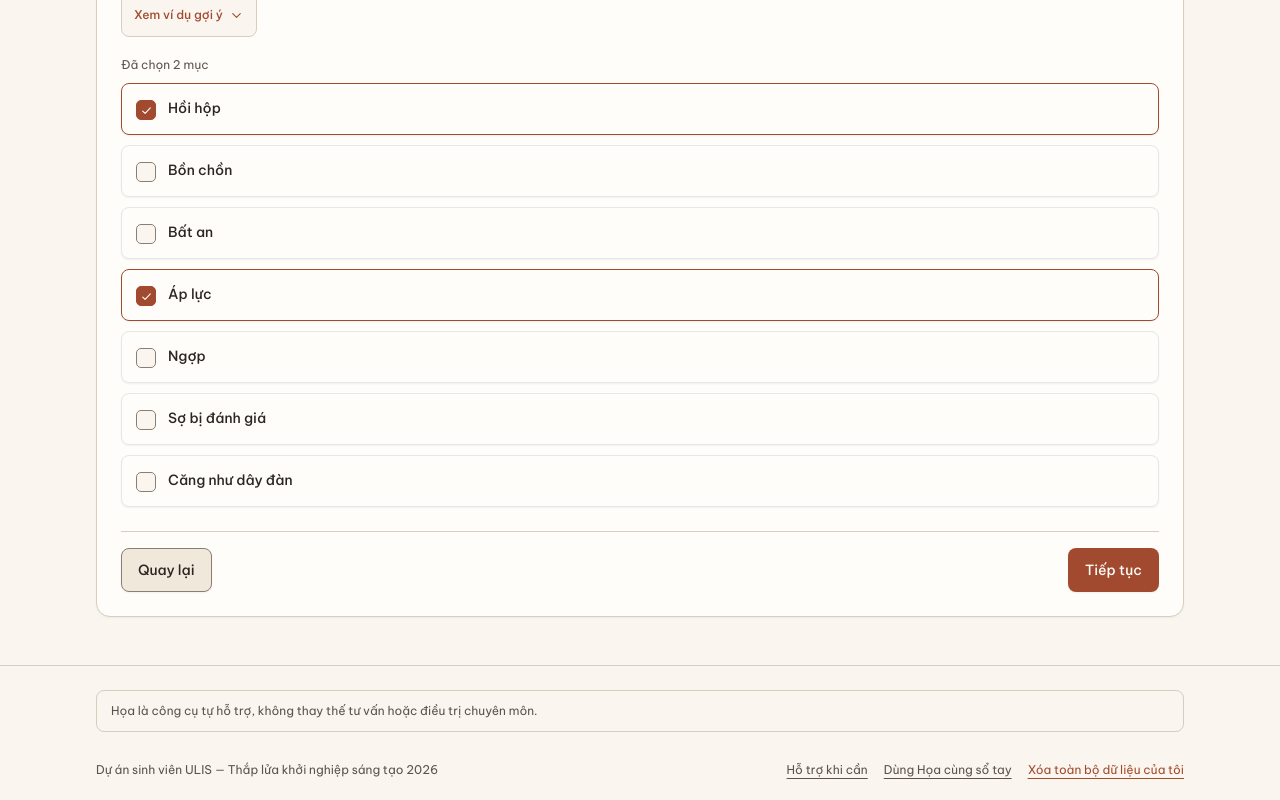
Test case: end-to-end UI flows across P0 and P1 pages › allows selecting an emotion group in step 1 of emotion-awareness and completing the flow
The width and height of the screenshot is (1280, 800).
Earlier steps of the test are not shown.
(page scrolled)
Step 1. Click the button "Tiếp tục" → coordinates (1113, 570), box 1068,548 -> 1159,592
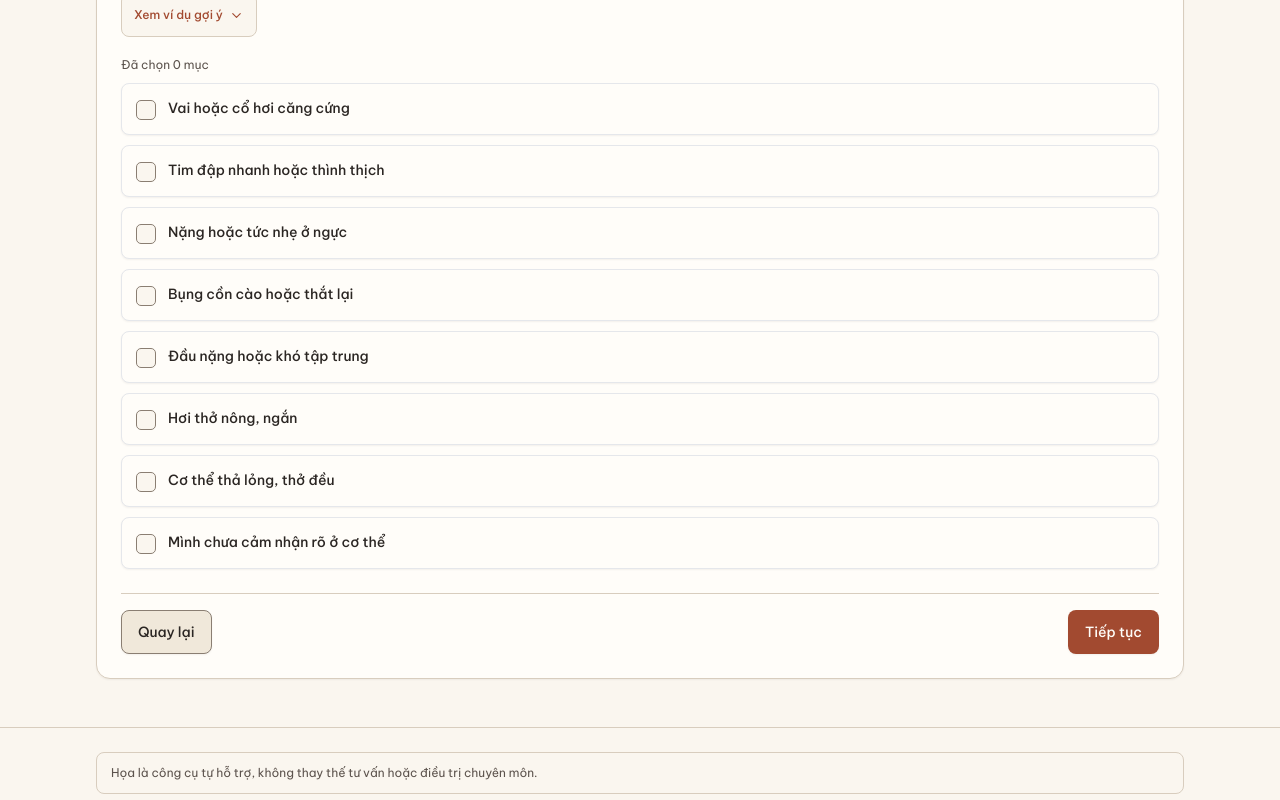
Step 2. Click the checkbox labelled "Vai hoặc cổ hơi căng cứng" → coordinates (259, 108), box 121,83 -> 1159,135
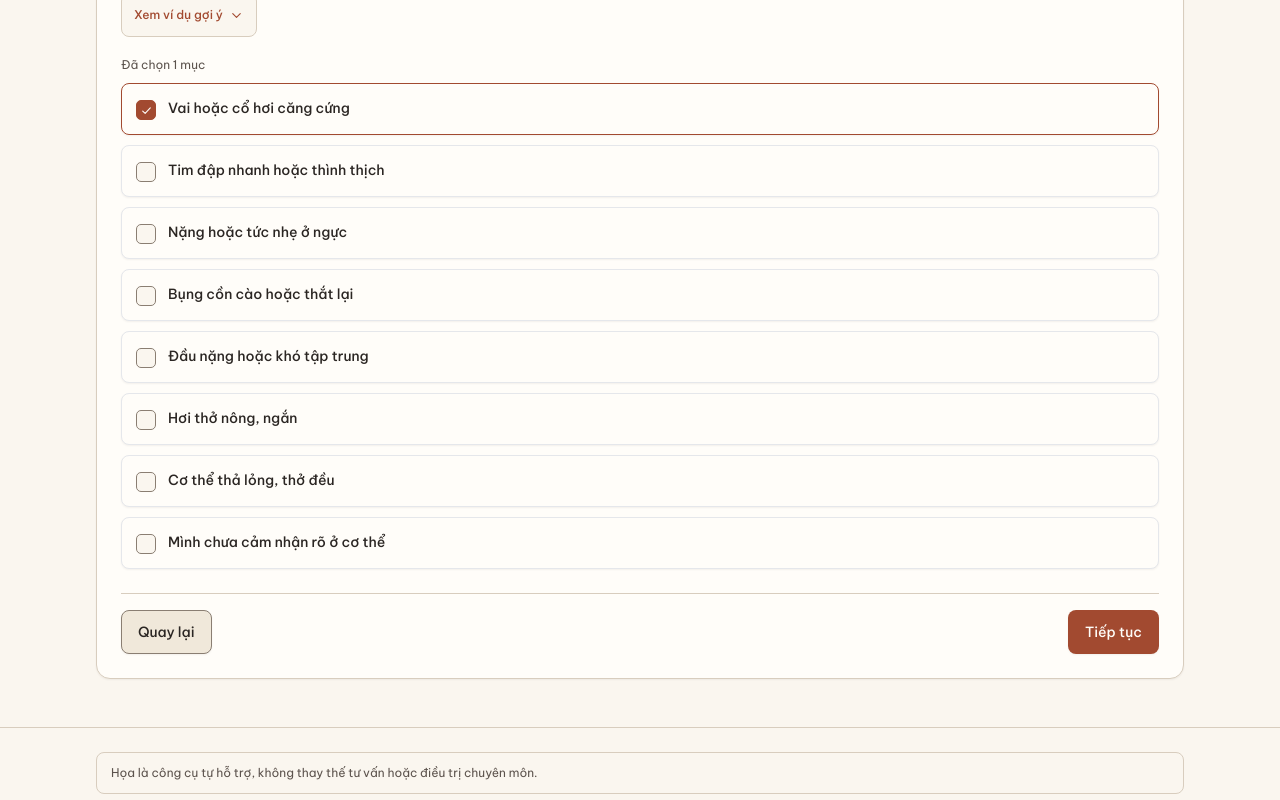
Step 3. Click the button "Tiếp tục" → coordinates (1113, 632), box 1068,610 -> 1159,654
(page scrolled)
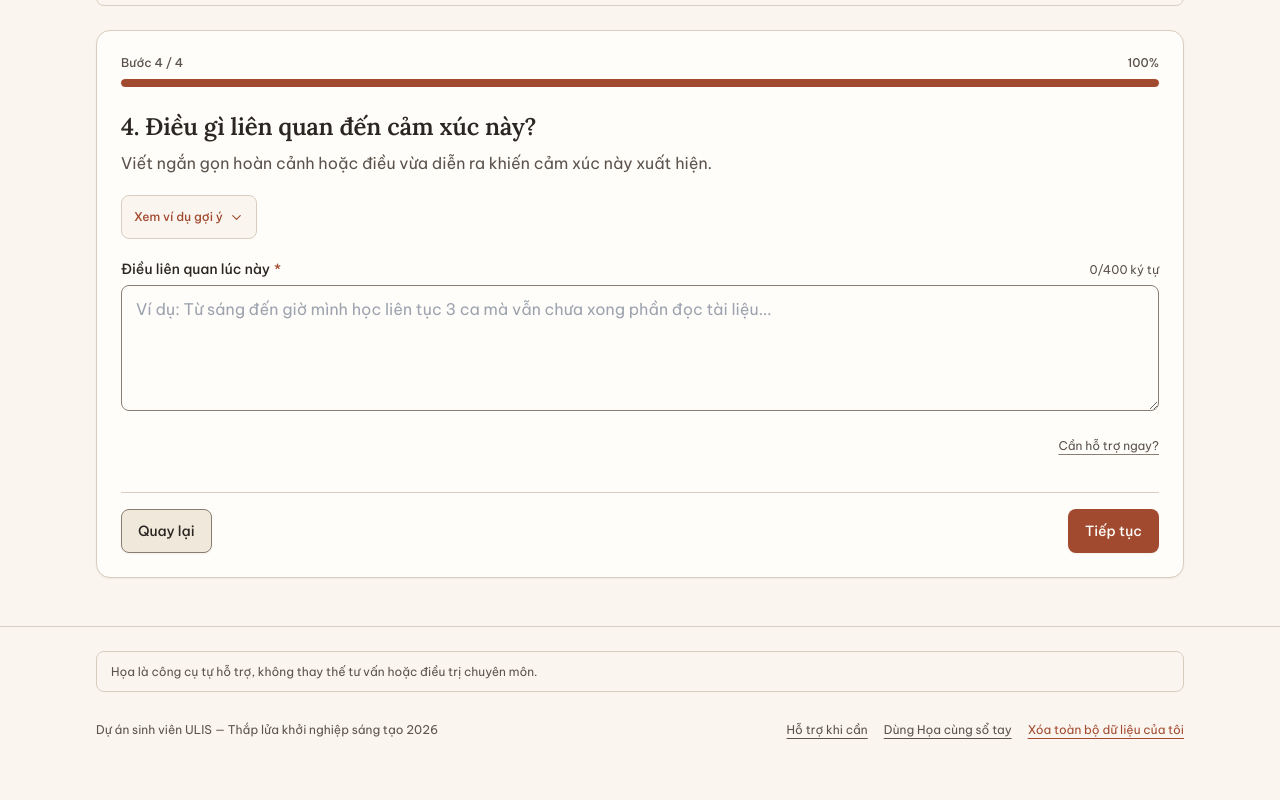
Check: the heading "4. Điều gì liên quan đến cảm xúc này?" is shown, box 121,111 -> 536,142
Step 4. Replace the text in the text box labelled "Điều liên quan lúc này*" with "Ngày mai có bài kiểm tra nói tiếng Anh đầu giờ sáng." → coordinates (640, 348), box 121,285 -> 1159,411
Step 5. Click the button "Tiếp tục" → coordinates (1113, 531), box 1068,509 -> 1159,553
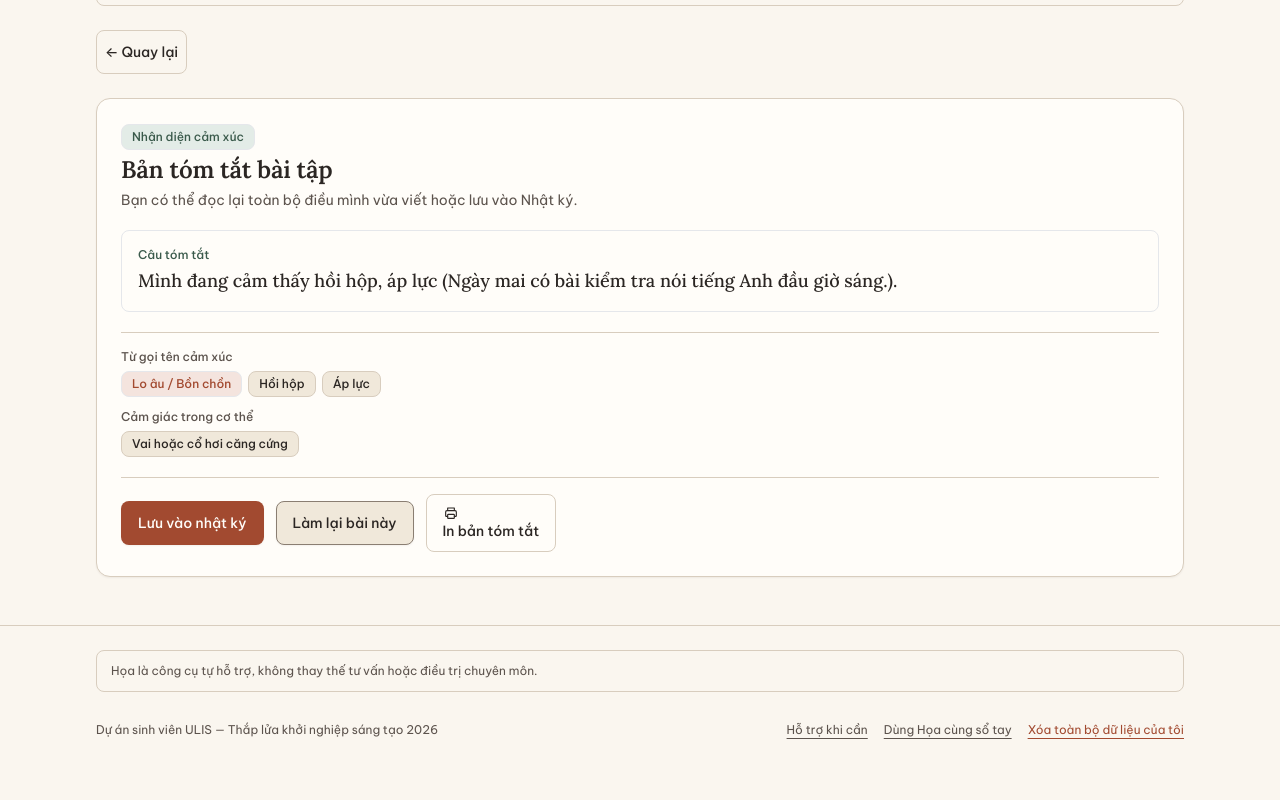
Check: the text "Mình đang cảm thấy" is shown, box 138,269 -> 897,292
Step 6. Click the button "Lưu vào nhật ký" → coordinates (192, 523), box 121,501 -> 264,545
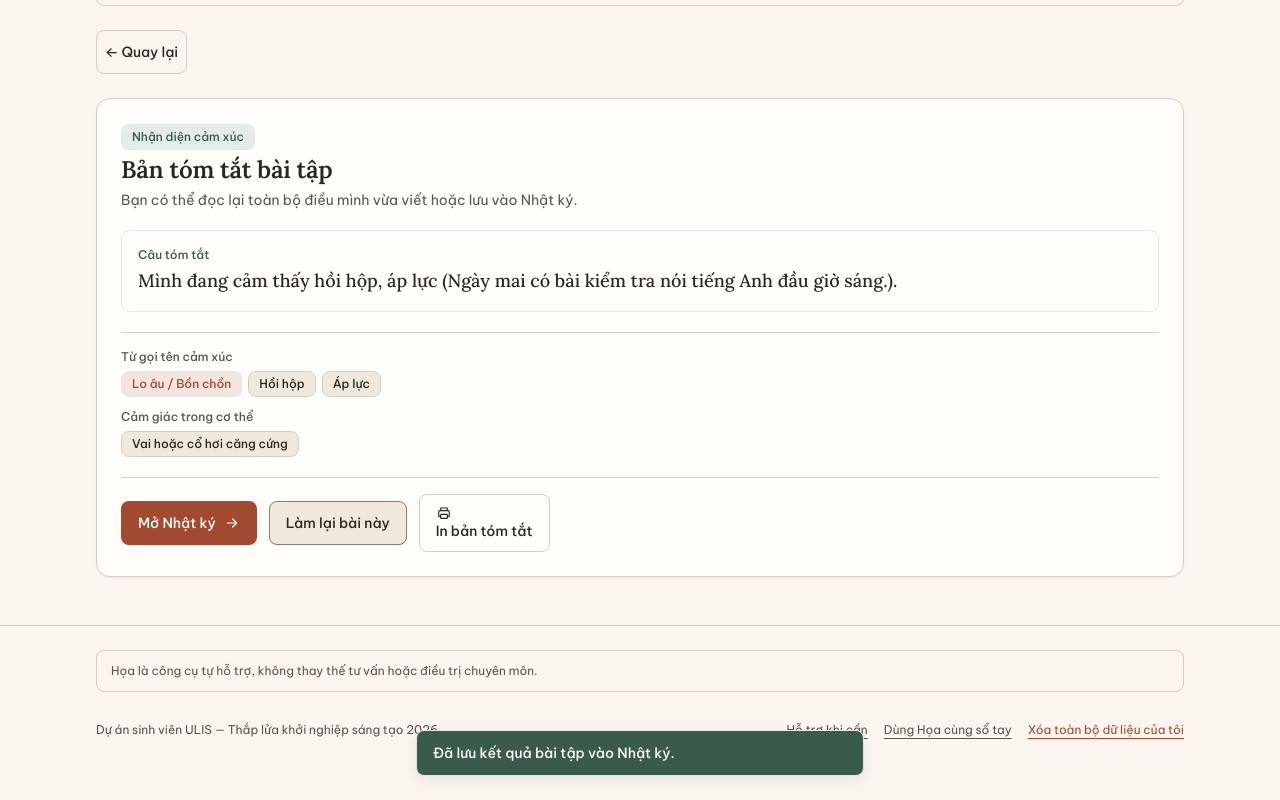
Check: the link "Mở Nhật ký" is shown
Step 7. Click the link "Mở Nhật ký" → coordinates (189, 523), box 121,501 -> 257,545
(page scrolled)
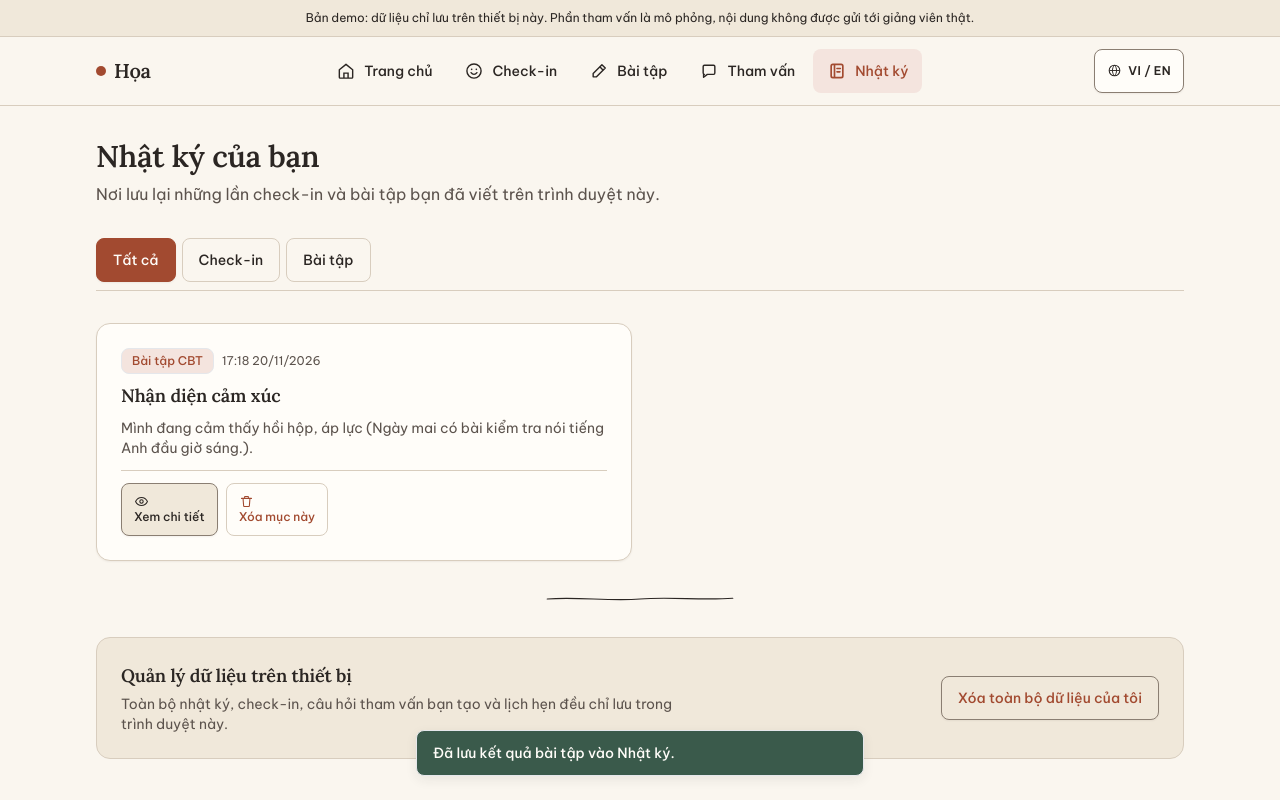
Check: the heading "Nhật ký của bạn" is shown, box 96,136 -> 319,174
